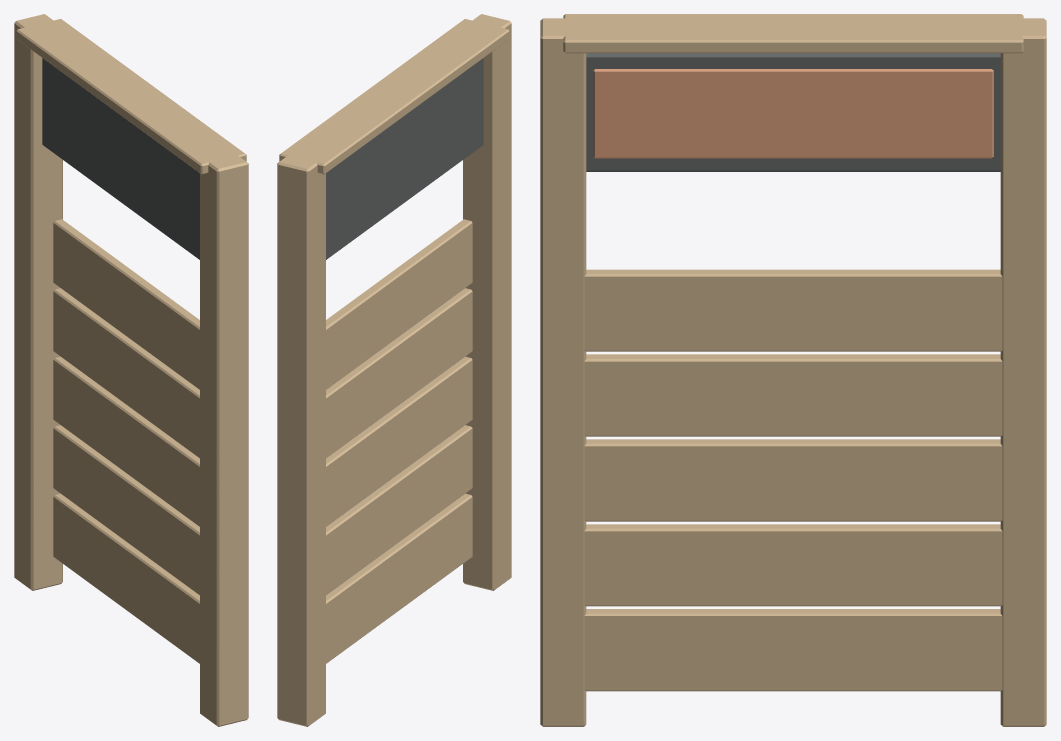
File: garden-centre-and-florist-bench-run-end-panel-7347cb98__17720.glb
3 renders of one model, left to right at view 1: azimuth 30°, elevation 25°; view 2: azimuth 150°, elevation 25°; view 3: azimuth 270°, elevation 25°, orthographic. The views are drawn at different scales.
Visible parts, largest first — view 1: bench-run-end-panel; view 2: bench-run-end-panel; view 3: bench-run-end-panel.
Part boxes in pixels (bbox=[...]): bench-run-end-panel: bbox=[14, 14, 248, 726]; bench-run-end-panel: bbox=[277, 14, 511, 726]; bench-run-end-panel: bbox=[540, 14, 1046, 726].
Size of the model in its own units: 0.1 by 1.16 by 0.77.
